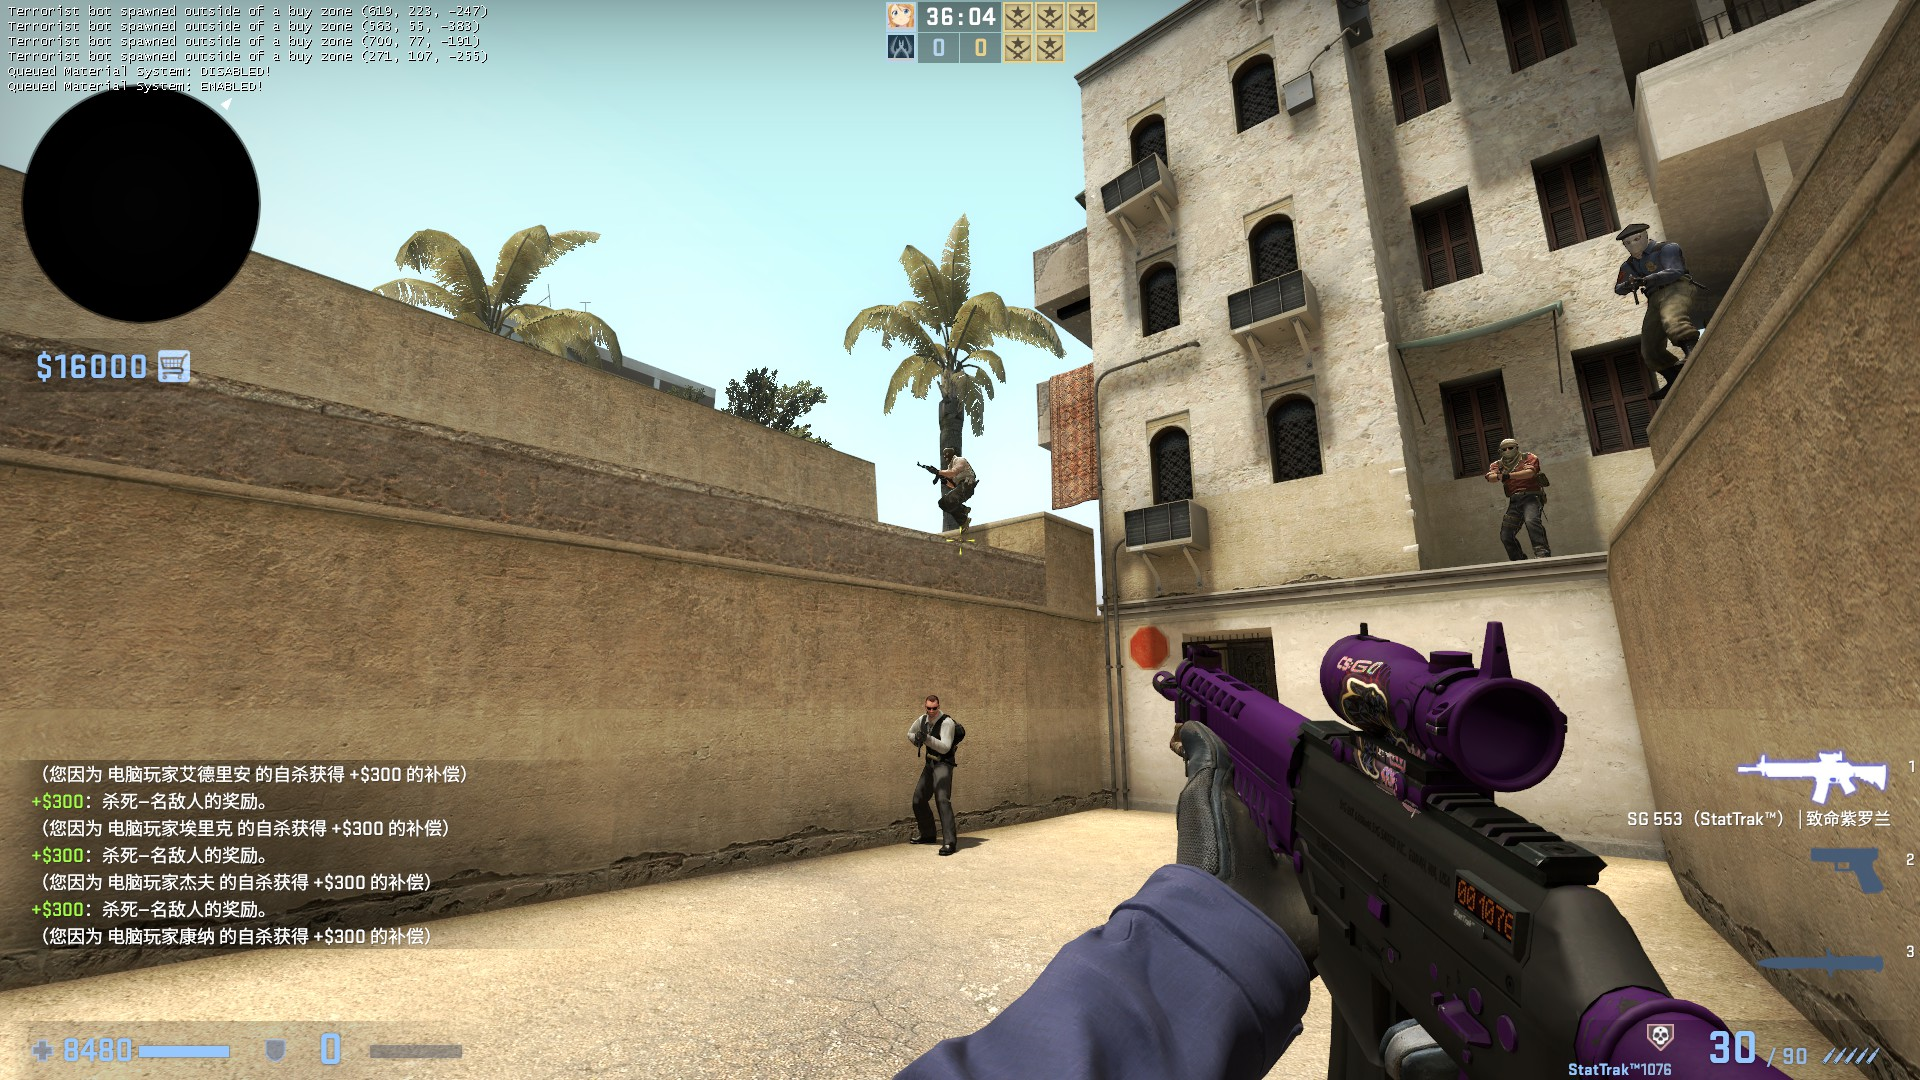head: (1614, 220, 1653, 256), (1495, 434, 1522, 461), (922, 693, 939, 716), (940, 446, 955, 459)
